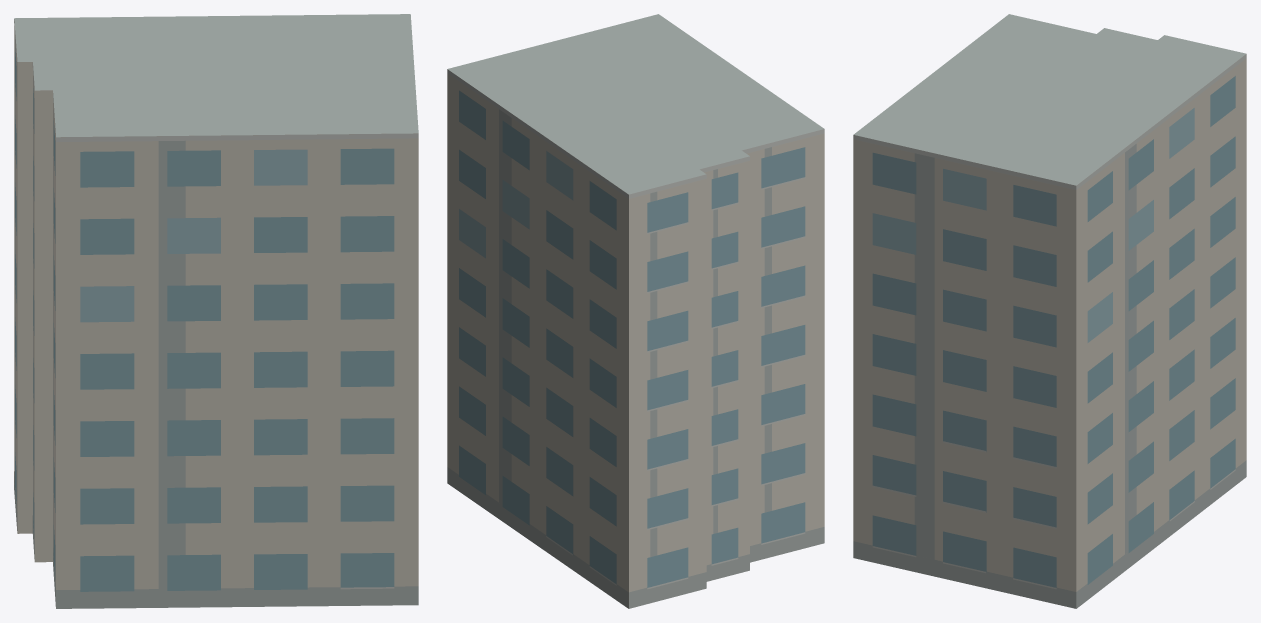
File: survey-upis-32877781.glb
The picture shows the model from 3 angles, left to right: view 1: azimuth 30°, elevation 25°; view 2: azimuth 150°, elevation 25°; view 3: azimuth 270°, elevation 25°; orthographic projection. The views are drawn at different scales.
Parts seen in each view (by area): view 1: survey-upis-32877781.tmp; view 2: survey-upis-32877781.tmp; view 3: survey-upis-32877781.tmp.
Boxes of the visible parts, <box> form: survey-upis-32877781.tmp: <box>14,14,418,608</box>; survey-upis-32877781.tmp: <box>447,14,824,608</box>; survey-upis-32877781.tmp: <box>853,14,1246,608</box>.
Bounding box in the file's own units: 20.11 × 23.1 × 19.47.
